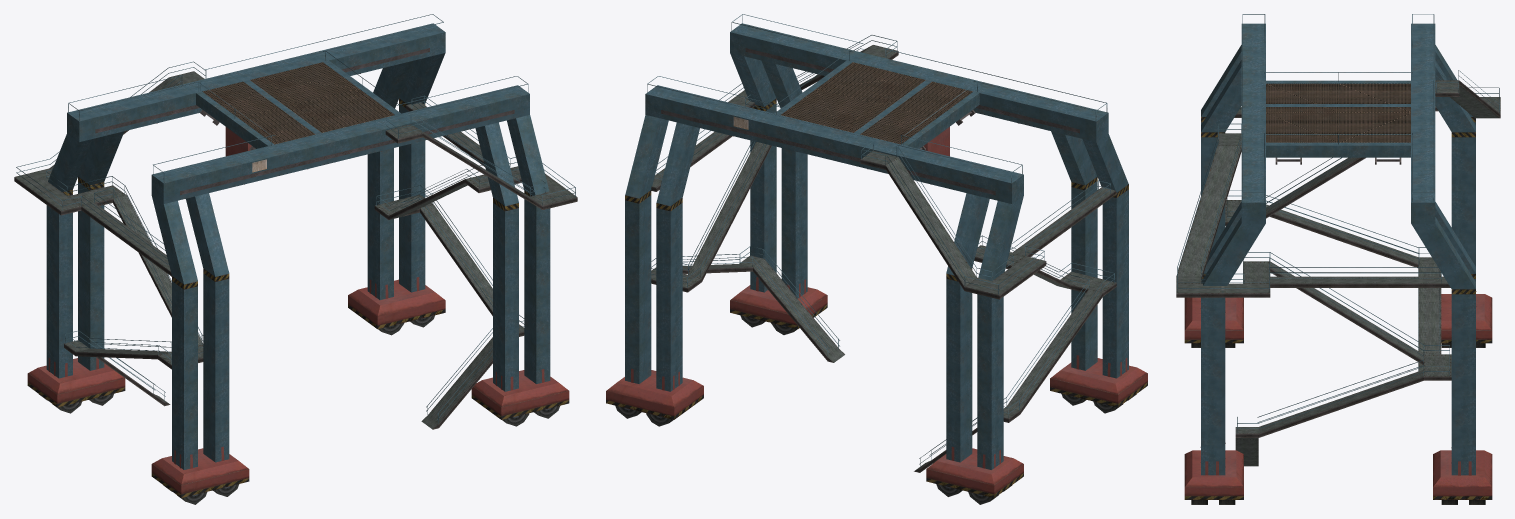
Rendered from Building_Qzj01_lod2.glb.
The picture shows the model from 3 angles, left to right: view 1: azimuth 30°, elevation 25°; view 2: azimuth 150°, elevation 25°; view 3: azimuth 270°, elevation 25°; orthographic projection.
Visible parts, largest first — view 1: xiutz_qzj_01_lod2_0; view 2: xiutz_qzj_01_lod2_0; view 3: xiutz_qzj_01_lod2_0.
Boxes of the visible parts, box(x1,y1,x2,y2) form: xiutz_qzj_01_lod2_0: box(14, 14, 577, 504); xiutz_qzj_01_lod2_0: box(606, 14, 1147, 504); xiutz_qzj_01_lod2_0: box(1176, 14, 1500, 504).
Bounding box in the file's own units: 49.64 × 37.68 × 34.62.
2 materials, 2 textured.
